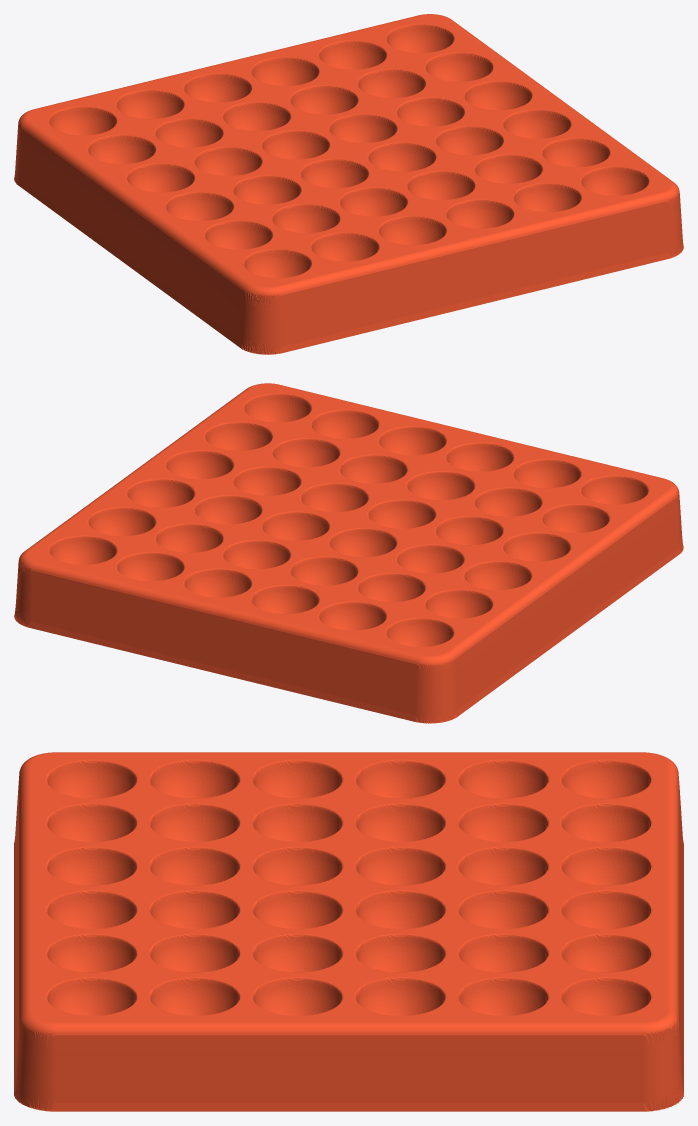
The model's file is mold.glb.
The picture shows the model from 3 angles, top to bottom: view 1: azimuth 30°, elevation 25°; view 2: azimuth 150°, elevation 25°; view 3: azimuth 270°, elevation 25°; orthographic projection. The views are drawn at different scales.
Parts seen in each view (by area): view 1: geometry_0; view 2: geometry_0; view 3: geometry_0.
Part boxes in pixels (left/top/right/bottom): geometry_0: left=14, top=14, right=683, bottom=354; geometry_0: left=14, top=383, right=683, bottom=723; geometry_0: left=14, top=752, right=683, bottom=1111.
Bounding box in the file's own units: 0.1447 × 0.0196 × 0.1447.
